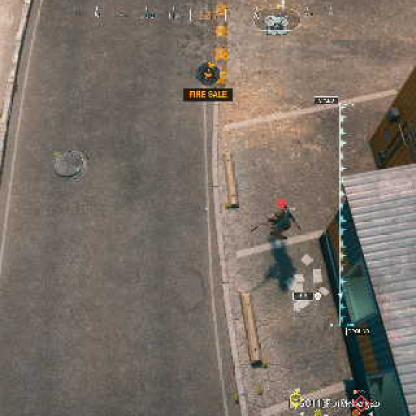enemy: (266, 203, 294, 239)
